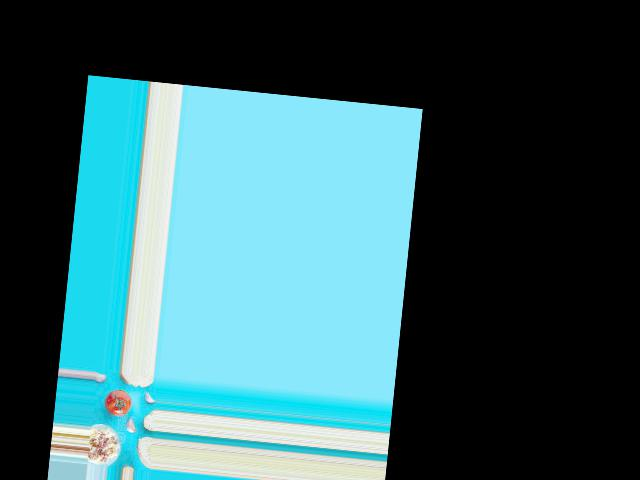tomato: (103, 388, 132, 416)
